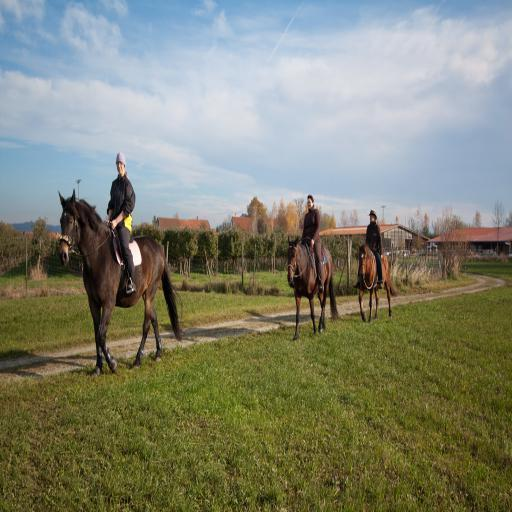horse: (58, 182, 184, 376), (286, 234, 344, 336), (354, 240, 400, 320)
